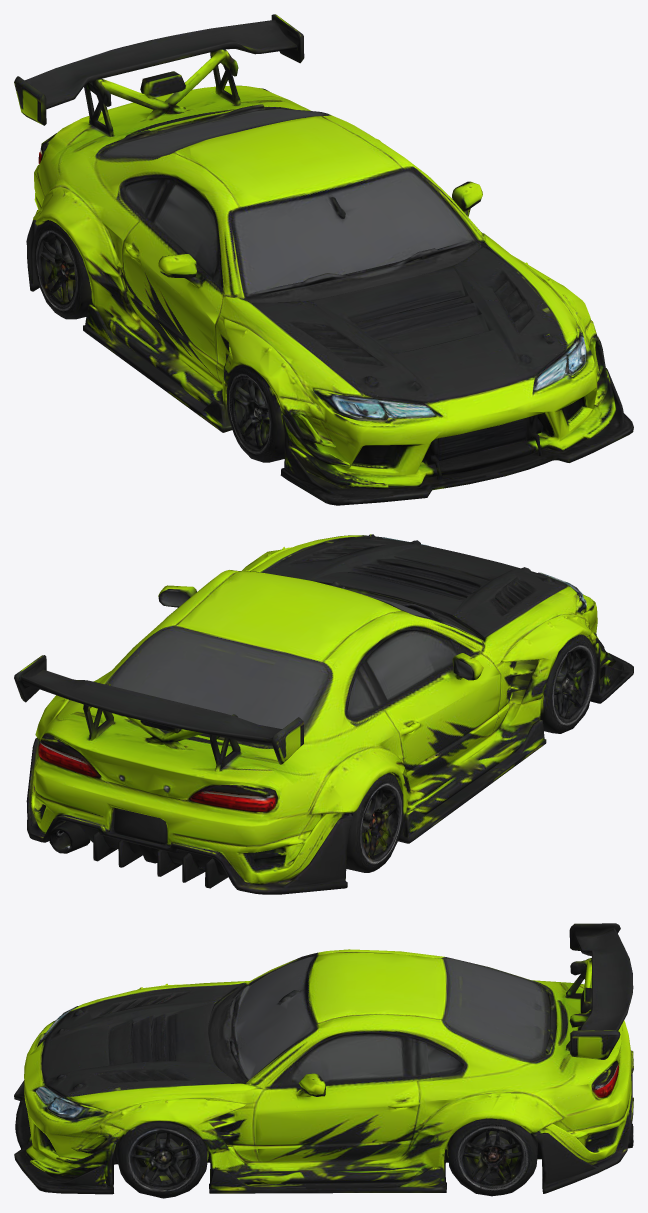
Rendered from custom-racer-02.glb.
3 renders of one model, top to bottom at view 1: azimuth 30°, elevation 25°; view 2: azimuth 150°, elevation 25°; view 3: azimuth 270°, elevation 25°, orthographic. The views are drawn at different scales.
Visible parts, largest first — view 1: custom-02-source-static-mesh; view 2: custom-02-source-static-mesh; view 3: custom-02-source-static-mesh.
Part boxes in pixels (x1,y1,x2,y2): custom-02-source-static-mesh: [14, 14, 633, 505]; custom-02-source-static-mesh: [14, 534, 633, 894]; custom-02-source-static-mesh: [14, 923, 633, 1198].
Bounding box in the file's own units: 2.5 × 1.34 × 4.8.
Materials: 1 (1 with a texture image).
